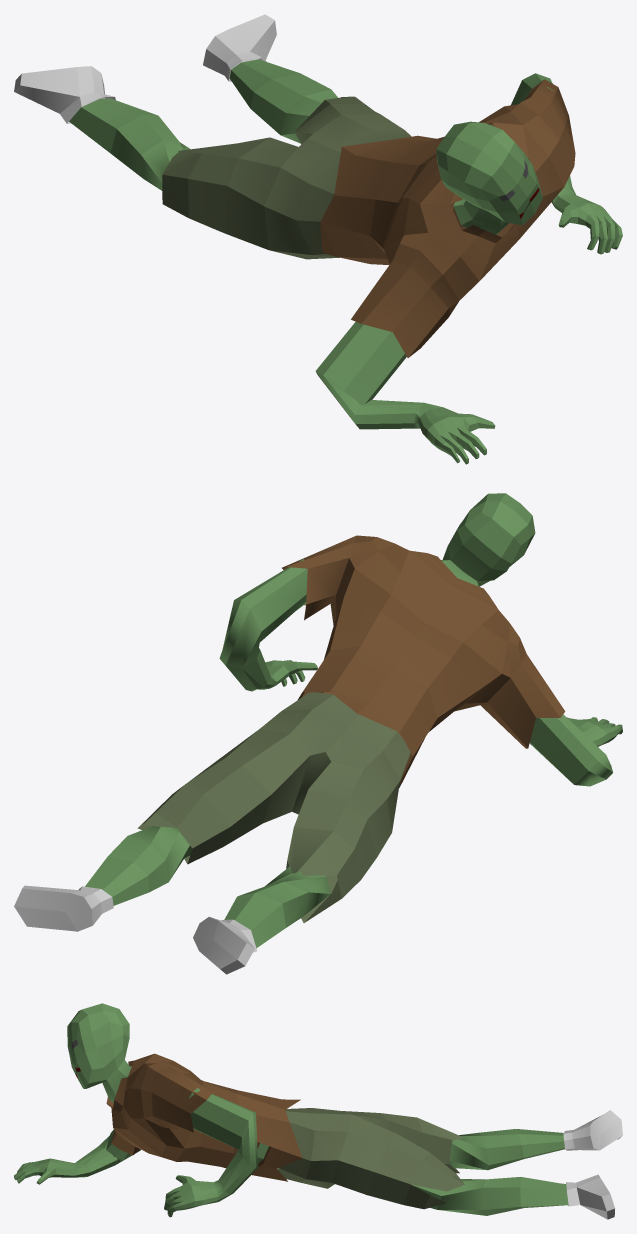
File: ZombieCrawl(23).obj
3 renders of one model, top to bottom at view 1: azimuth 30°, elevation 25°; view 2: azimuth 150°, elevation 25°; view 3: azimuth 270°, elevation 25°, orthographic. The views are drawn at different scales.
Visible parts, largest first — view 1: Object001; view 2: Object001; view 3: Object001.
Part boxes in pixels (left/top/right/bottom): Object001: left=14, top=14, right=622, bottom=464; Object001: left=14, top=493, right=622, bottom=974; Object001: left=14, top=1003, right=622, bottom=1219.
Size of the model in its own units: 28.04 by 22.71 by 63.04.
